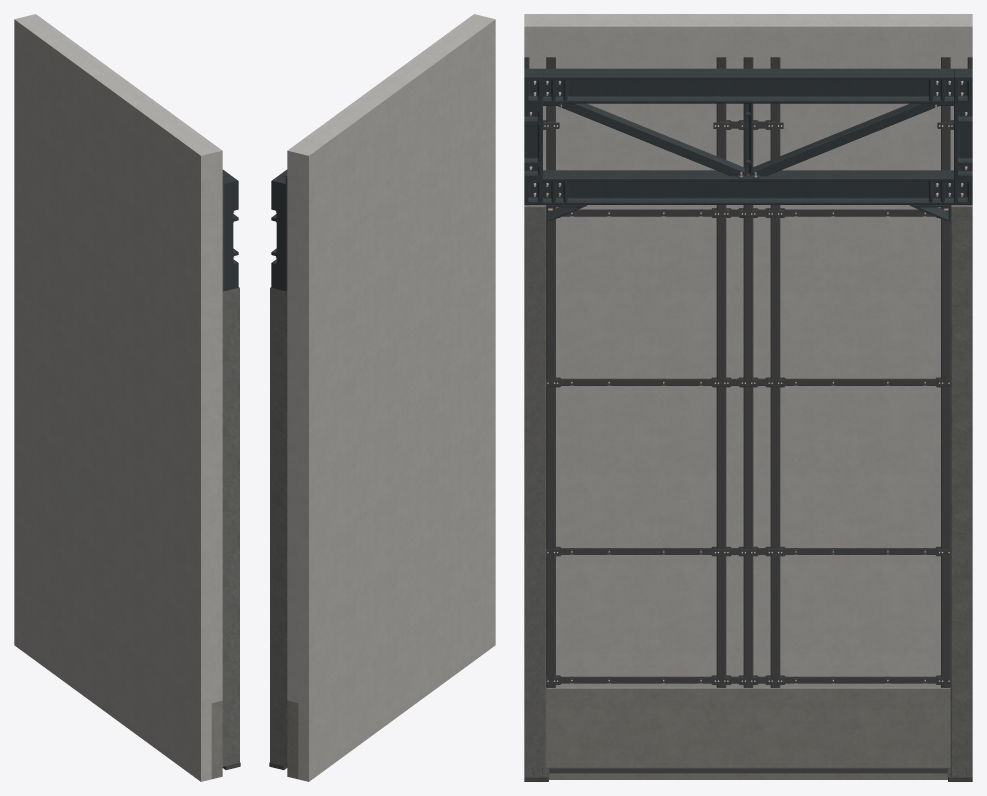
Rendered from structure_wall_straight_a01.glb.
The picture shows the model from 3 angles, left to right: view 1: azimuth 30°, elevation 25°; view 2: azimuth 150°, elevation 25°; view 3: azimuth 270°, elevation 25°; orthographic projection. The views are drawn at different scales.
Visible parts, largest first — view 1: body_01_mesh_00; view 2: body_01_mesh_00; view 3: body_01_mesh_00.
Boxes of the visible parts, box(x1,y1,x2,y2) form: body_01_mesh_00: box(14, 14, 240, 781); body_01_mesh_00: box(269, 14, 495, 781); body_01_mesh_00: box(524, 14, 972, 781).
Size of the model in its own units: 0.7398 by 11.1 by 6.
8 materials, 7 textured.
